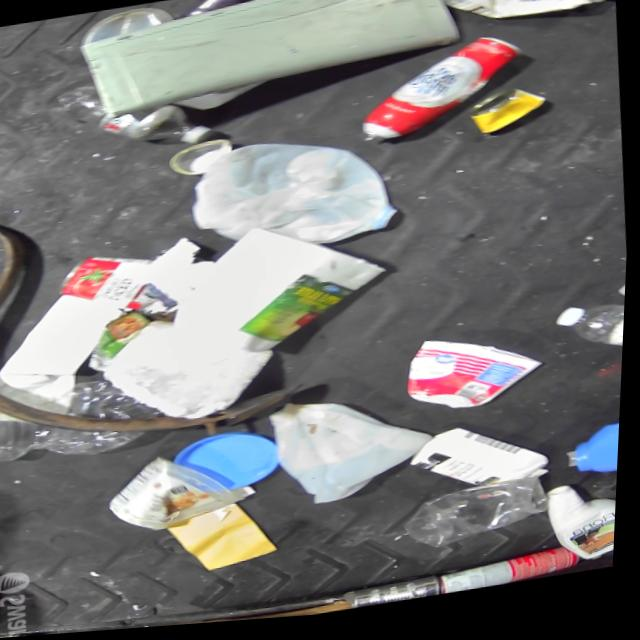can: (350, 37, 530, 152), (55, 249, 160, 321), (441, 553, 587, 602), (464, 90, 552, 147), (343, 581, 445, 616), (164, 139, 239, 184)
milk_jug: (185, 126, 403, 270), (266, 385, 443, 517)
non_white_jug: (572, 431, 624, 490)
plastic_bottle: (51, 67, 219, 167), (549, 306, 628, 379), (590, 533, 620, 571)
